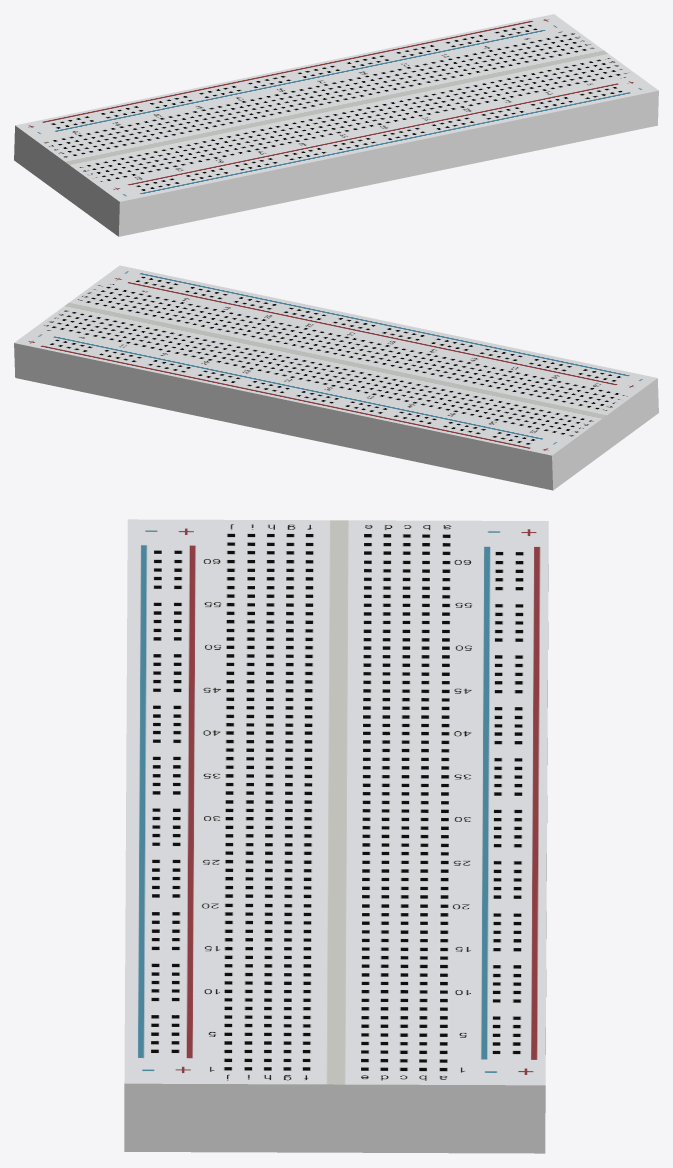
File: breadboard.glb
3 views of the same model, one above another, from view 1: azimuth 30°, elevation 25°; view 2: azimuth 150°, elevation 25°; view 3: azimuth 270°, elevation 25° (orthographic). The views are drawn at different scales.
Parts seen in each view (by area): view 1: Top, Body; view 2: Top, Body; view 3: Top, Body.
Boxes of the visible parts, x1,y1,x2,y2 form: Top: (15,14,658,201); Body: (14,90,658,236); Top: (14,265,657,455); Body: (14,343,658,490); Top: (124,519,548,1085); Body: (124,564,548,1153).
Size of the model in its own units: 3.08 by 0.2981 by 1.05.
Materials: 2 (1 with a texture image).
